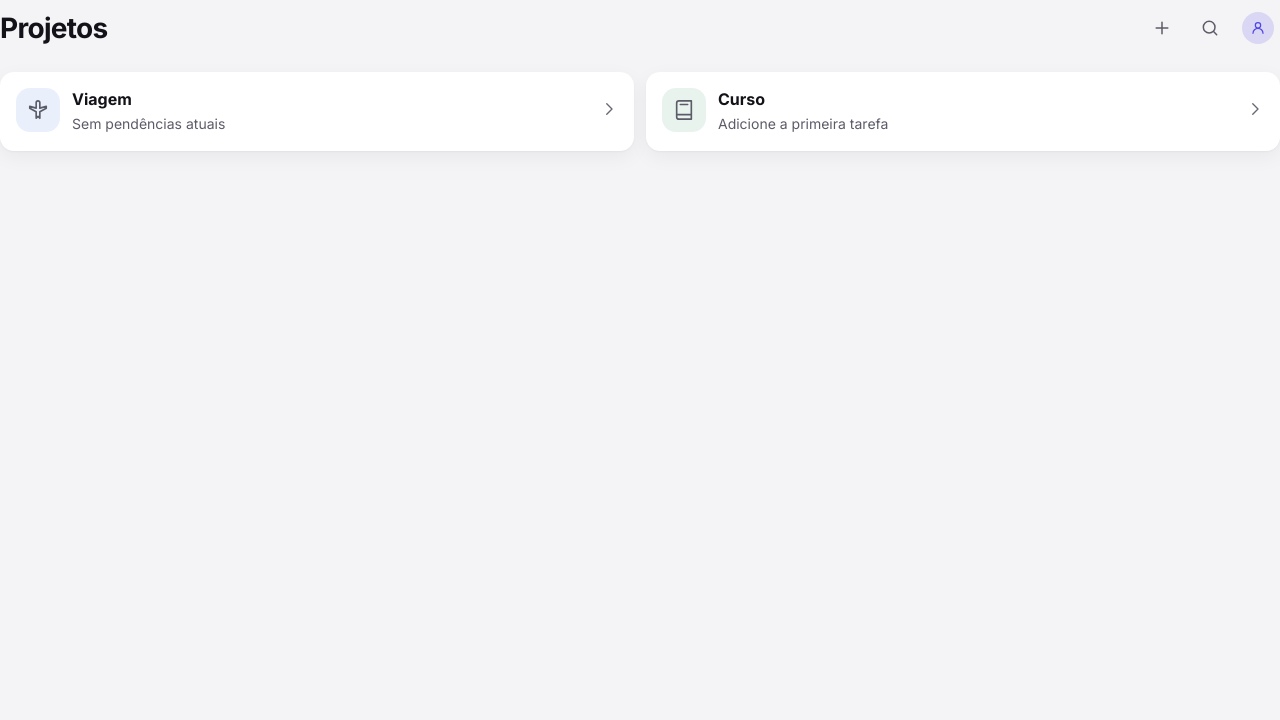
Test: abrir série task encerrada não oferece ação de ocorrência inexistente
What coordinates should you click on to do the following:
click the button "Viagem Sem pendências atuais"
I would click on:
 (38, 110)
Its box is [0, 72, 634, 151].
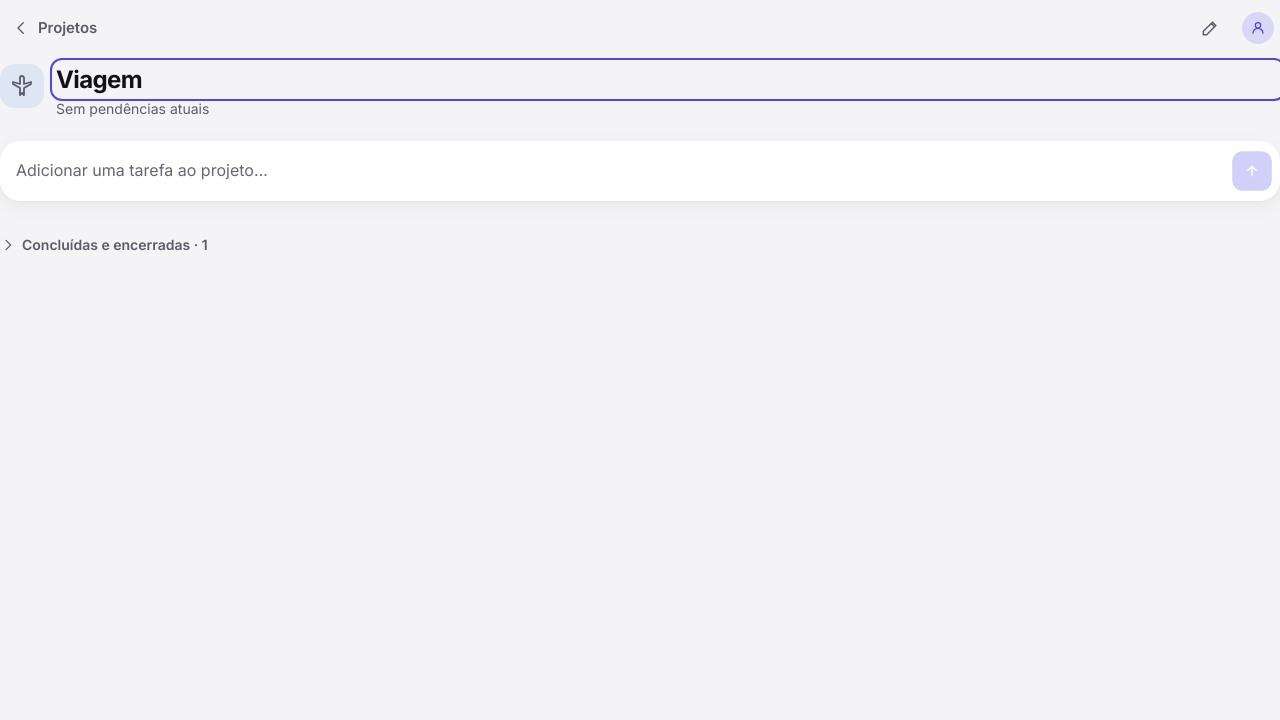
What coordinates should you click on to do the following:
click the button "Concluídas e encerradas · 1"
I would click on:
 (104, 246)
Its box is [0, 224, 208, 268].
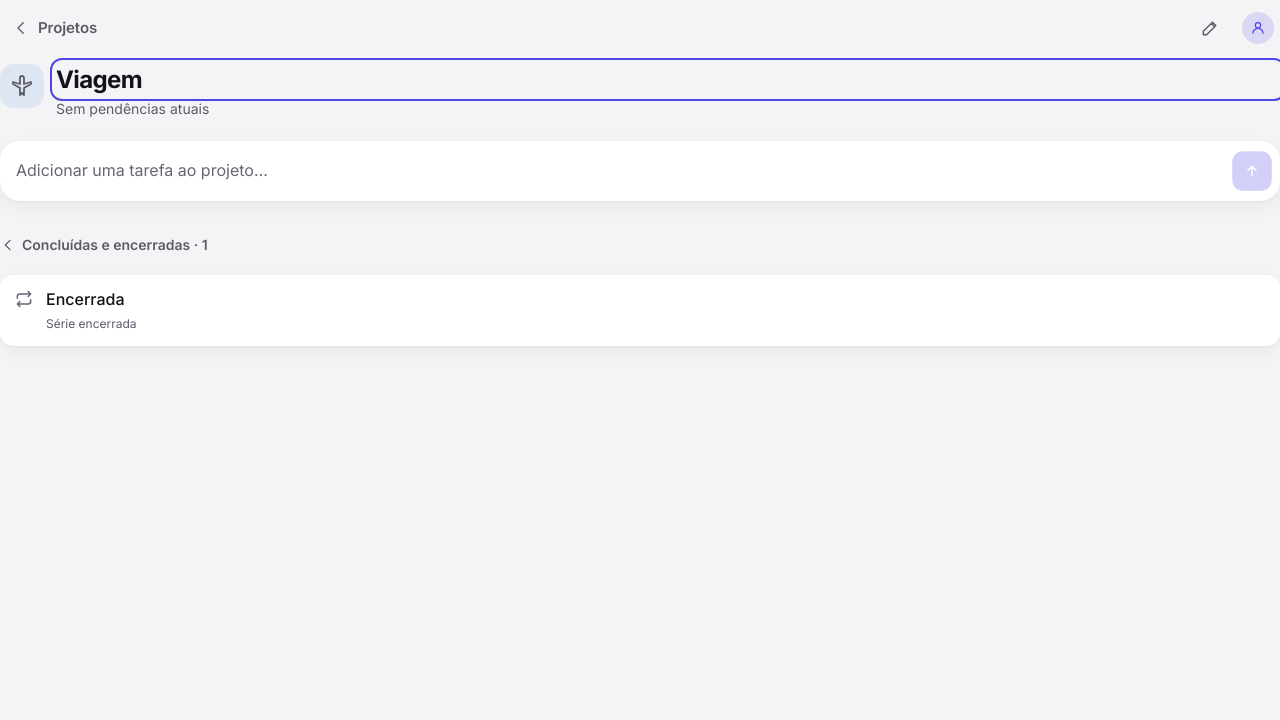
What coordinates should you click on to do the following:
click the button with class "task-main"
I would click on:
 (85, 299)
Its box is [46, 288, 1268, 334].
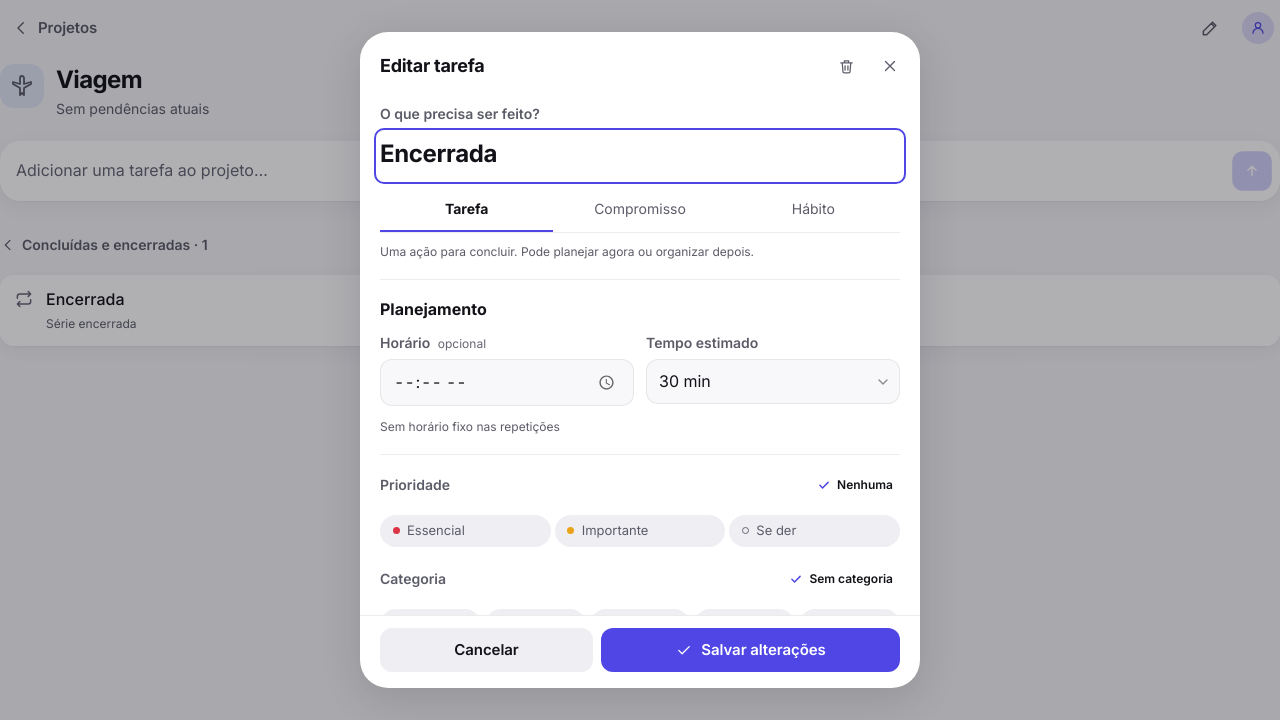
Result: the dialog shows "Salvar alterações" at [601, 628, 900, 672]
